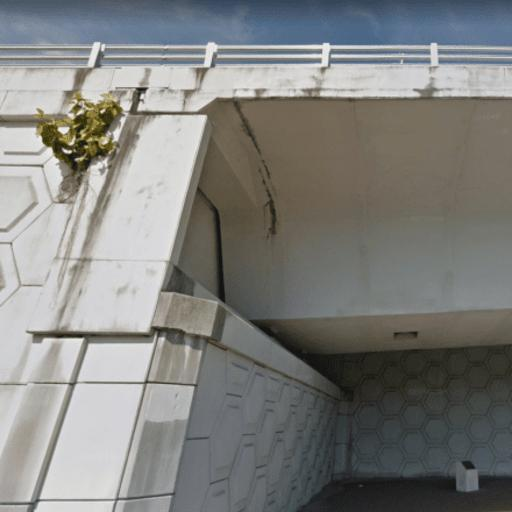Concrete: (1, 45, 512, 512)
Crack: (227, 96, 280, 253)
